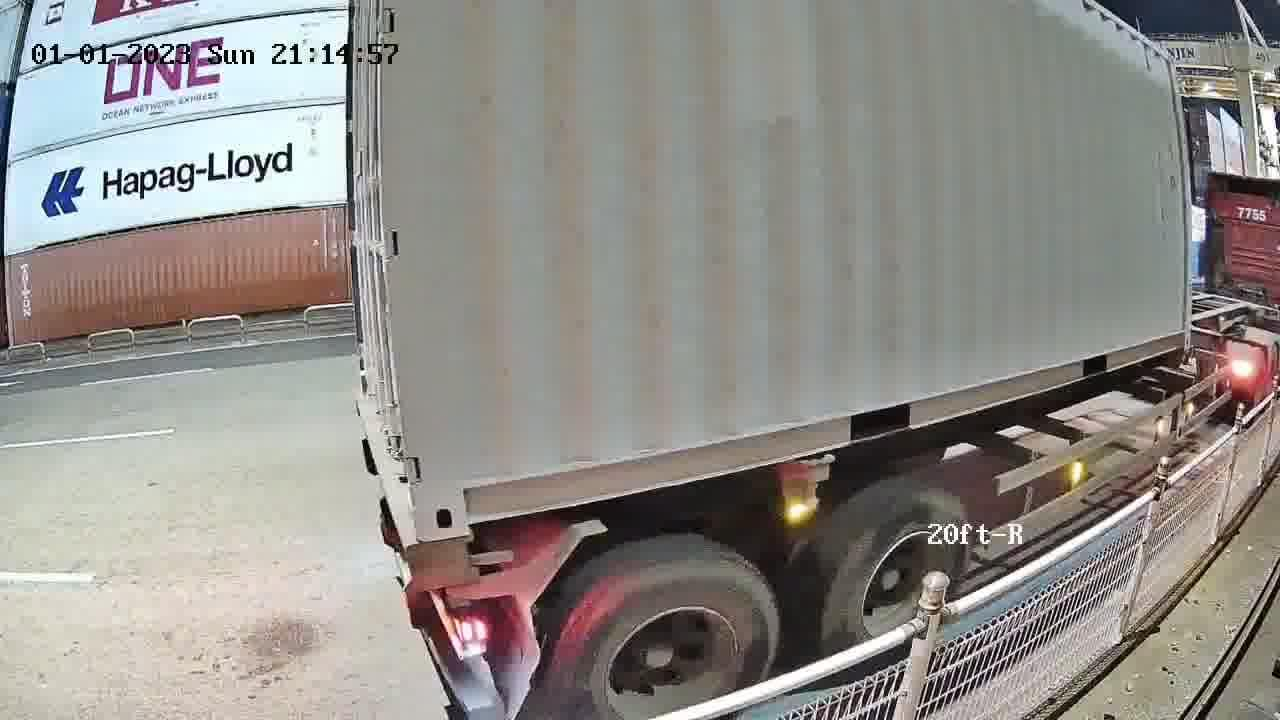Cone: (419, 537, 476, 596)
Hole_L: (406, 445, 509, 539)
Tire: (551, 558, 781, 719), (822, 496, 971, 657)
